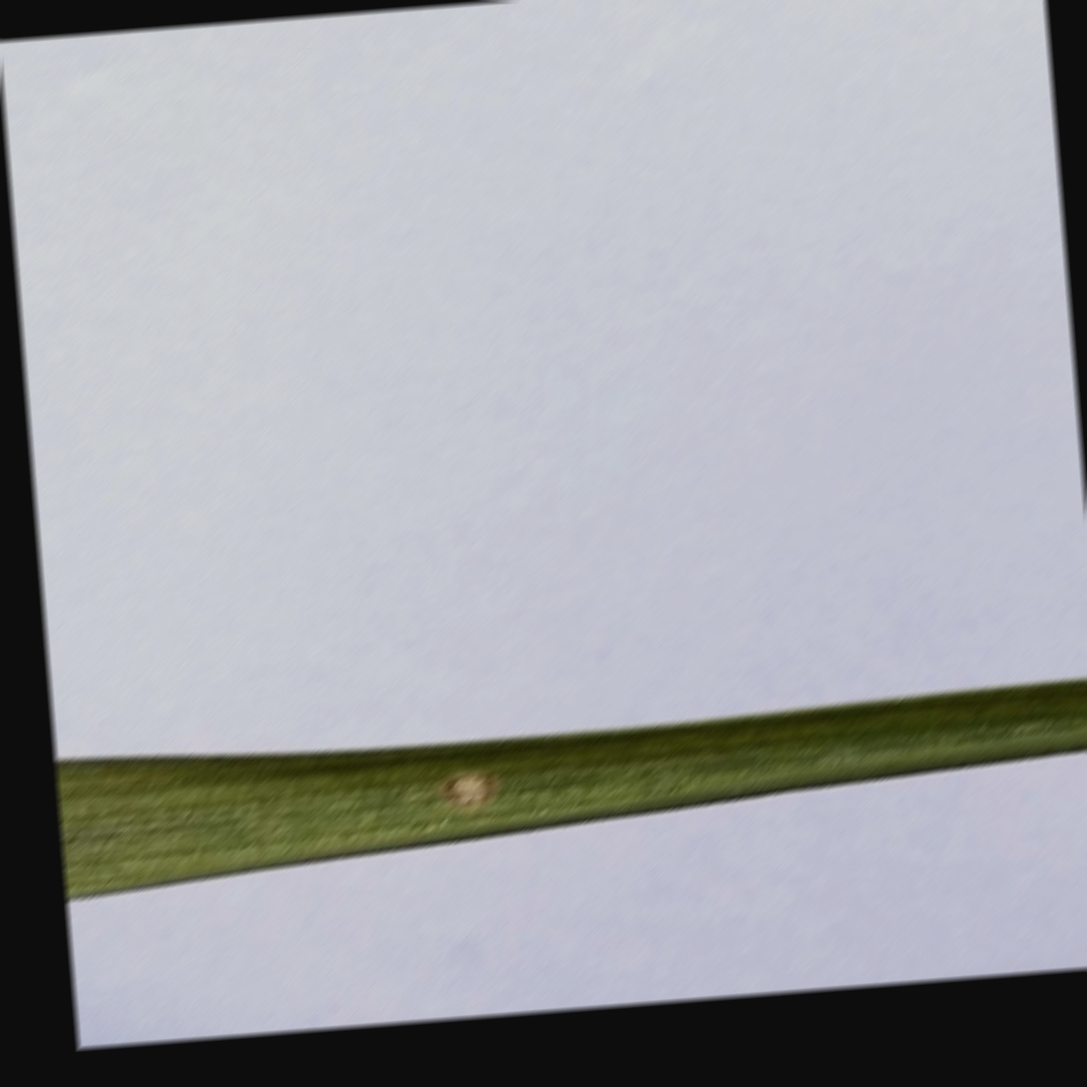Brown_Spot: (433, 767, 504, 814)
